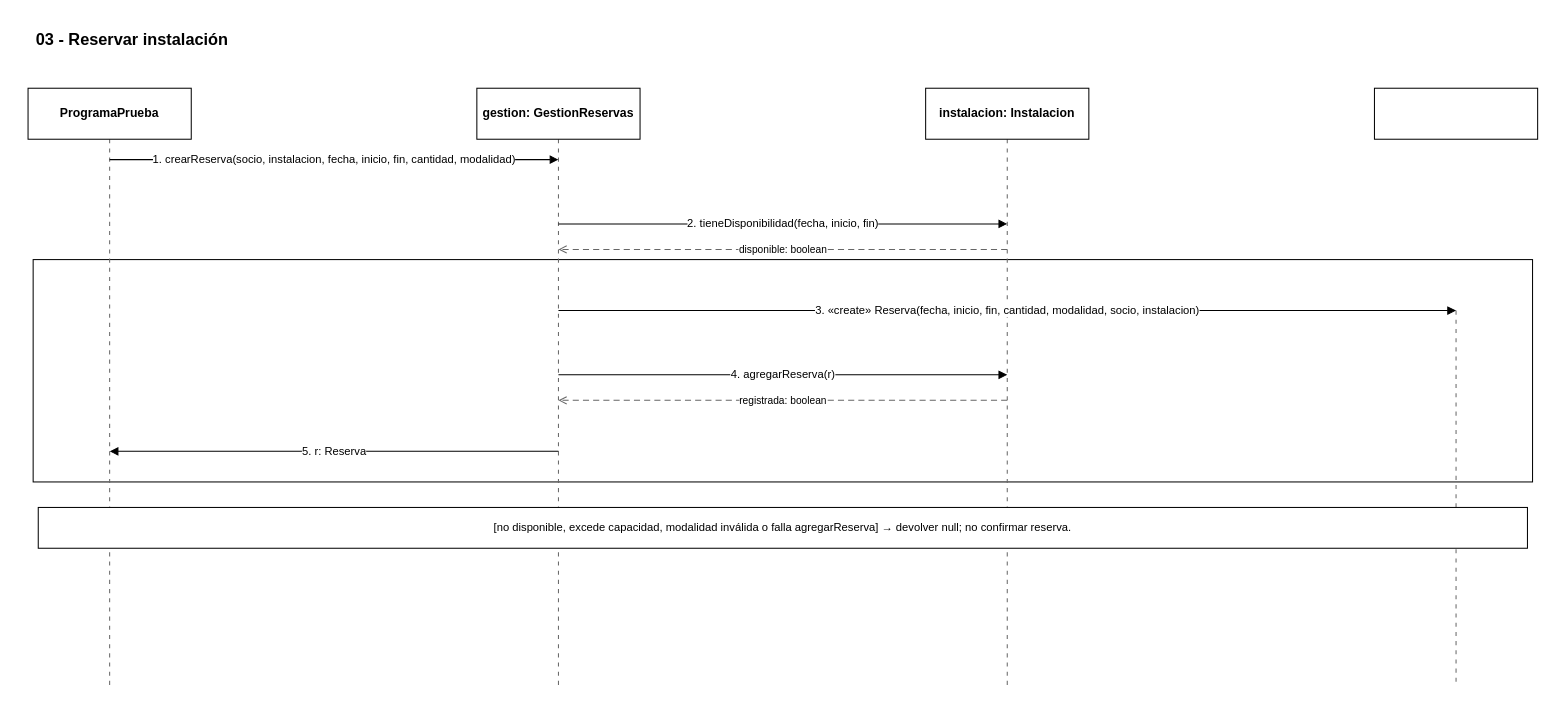
Image size: 1566x705. Some labels were removed from this diagram. The centre of each missing label's shape, as x and y in pixels:
alt [disponible; capacidad y modalidad válidas]: the point at 782,370
r: Reserva: the point at 1455,113
